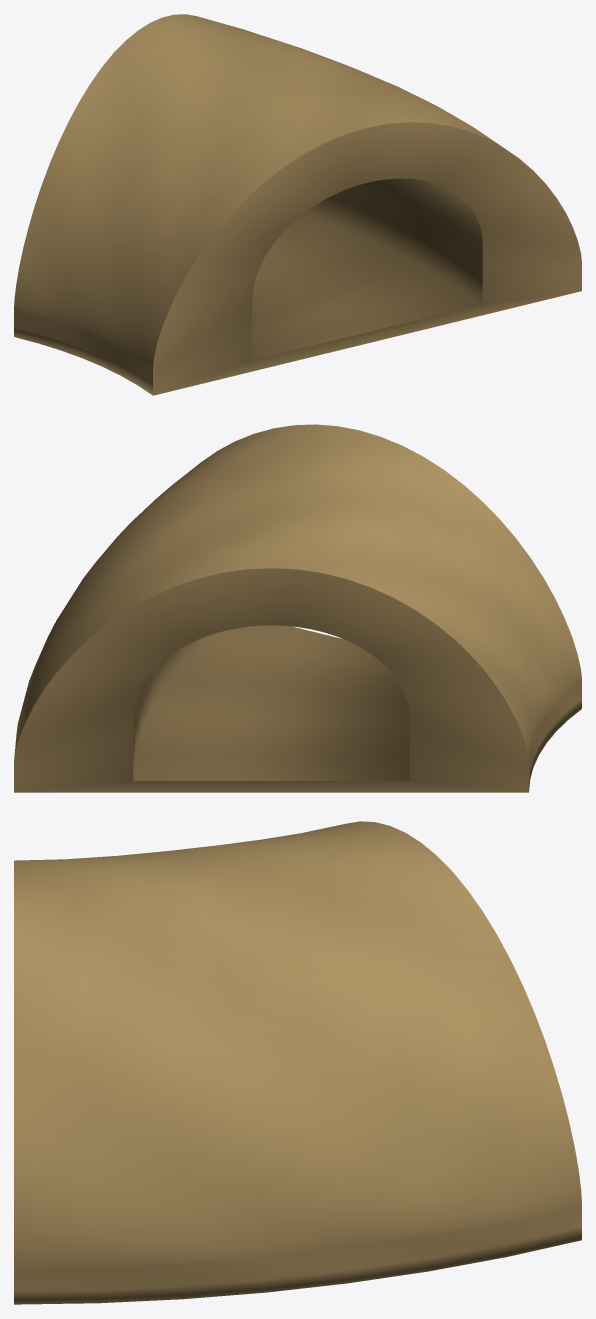
File: curve_left_30_terrain_lod1.glb
3 views of the same model, one above another, from view 1: azimuth 30°, elevation 25°; view 2: azimuth 150°, elevation 25°; view 3: azimuth 270°, elevation 25° (orthographic). The views are drawn at different scales.
Visible parts, largest first — view 1: TerrainRoof.007; view 2: TerrainRoof.007; view 3: TerrainRoof.007.
Boxes of the visible parts, <box> form: TerrainRoof.007: <box>14,14,581,395</box>; TerrainRoof.007: <box>14,424,581,792</box>; TerrainRoof.007: <box>14,821,581,1304</box>.
Size of the model in its own units: 31.32 by 13.65 by 25.1.
